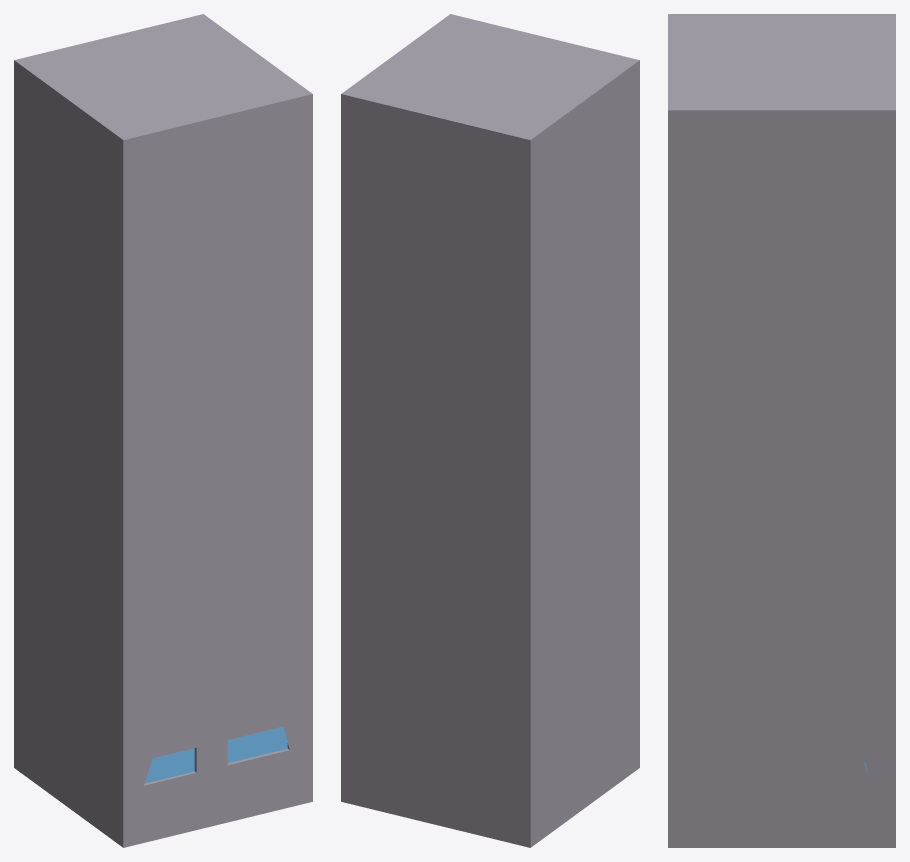
3 renders of one model, left to right at view 1: azimuth 30°, elevation 25°; view 2: azimuth 150°, elevation 25°; view 3: azimuth 270°, elevation 25°, orthographic. The views are drawn at different scales.
Visible parts, largest first — view 1: Building_high; view 2: Building_high; view 3: Building_high.
Part boxes in pixels (x1=…): Building_high: x1=14, y1=14, x2=312, y2=847; Building_high: x1=341, y1=14, x2=639, y2=847; Building_high: x1=668, y1=14, x2=895, y2=847.
Size of the model in its own units: 200 by 714 by 200.
Materials: 2 (2 with a texture image).
